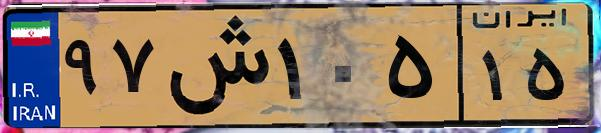0: (330, 28, 385, 110)
1: (270, 28, 330, 110), (475, 38, 525, 113)
5: (385, 28, 445, 110), (525, 38, 570, 115)
7: (110, 28, 158, 98)
9: (57, 26, 110, 100)
ش: (158, 12, 270, 120)
